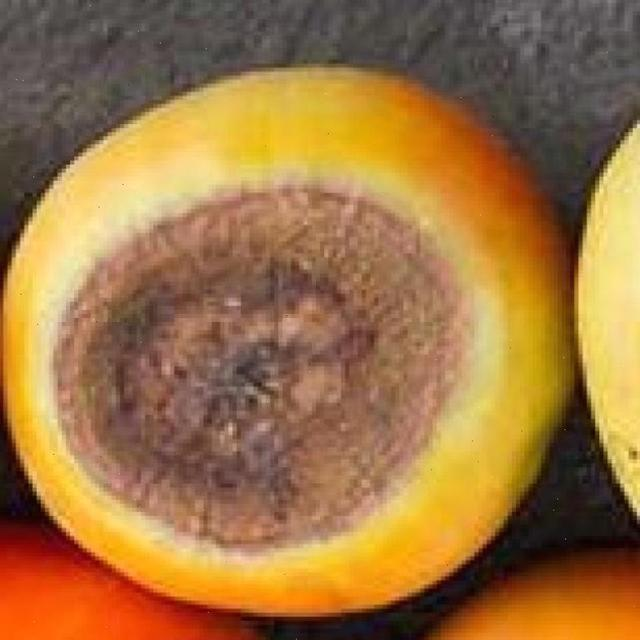Blossom End Rot Fruit: (35, 123, 314, 376)
